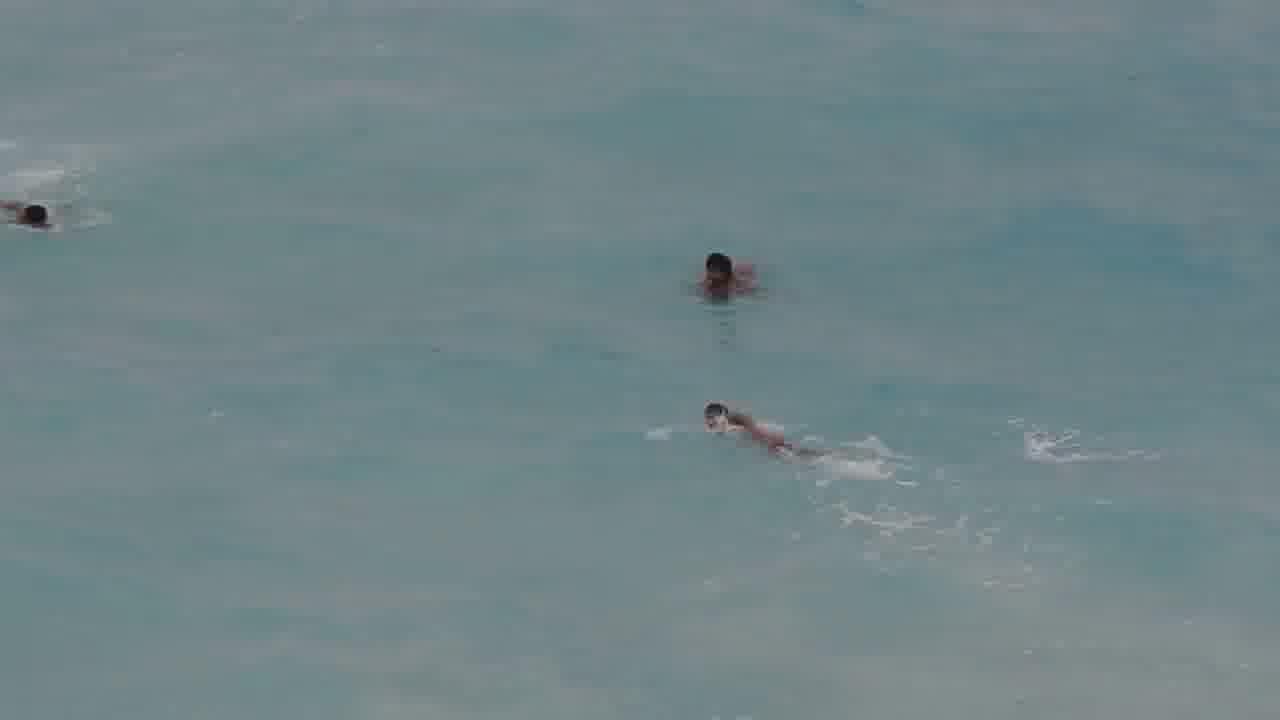swimmer: (695, 390, 817, 459), (676, 247, 765, 298), (0, 183, 60, 234)
